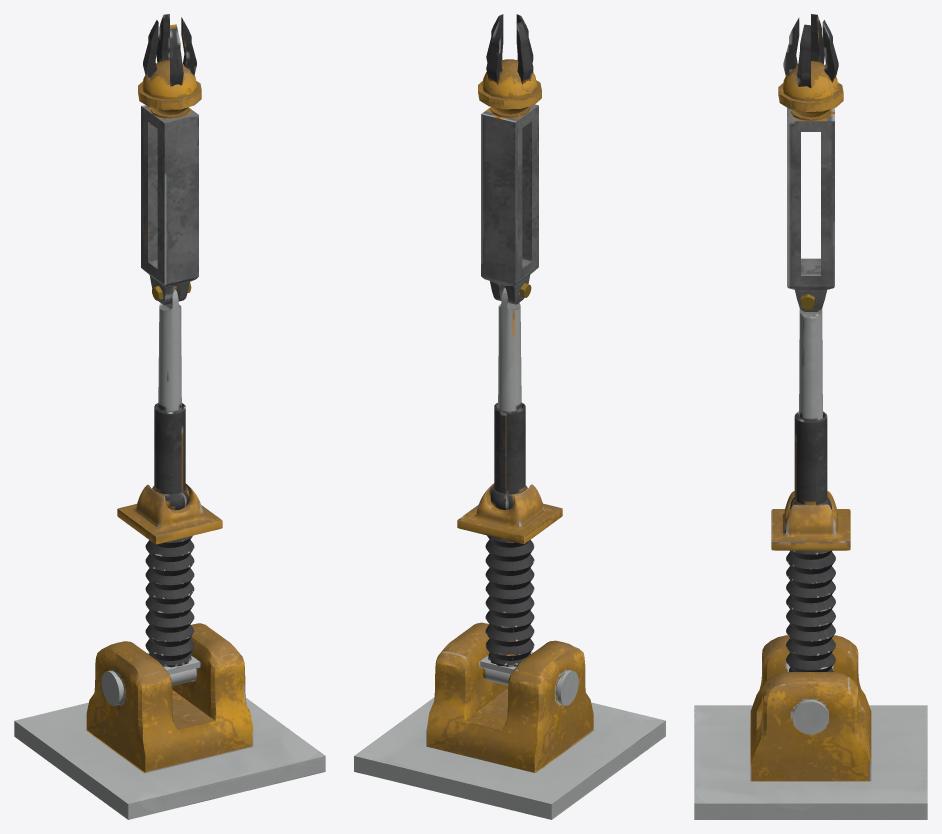
Rendered from brazo_mecanico.glb.
3 renders of one model, left to right at view 1: azimuth 30°, elevation 25°; view 2: azimuth 150°, elevation 25°; view 3: azimuth 270°, elevation 25°, orthographic. The views are drawn at different scales.
Visible parts, largest first — view 1: pieza1, pieza3, muelle, base hidraulica, Hidraulica1, hidraulica2, BOLA_BASE_MANO, Base mano.001, union1; view 2: pieza1, pieza3, muelle, base hidraulica, Hidraulica1, hidraulica2, BOLA_BASE_MANO, Base mano.001, union1; view 3: pieza1, pieza3, muelle, base hidraulica, Hidraulica1, hidraulica2, BOLA_BASE_MANO, Base mano.001, union1.
Part boxes in pixels (<box>): pieza1: <box>14,623,325,819</box>; pieza3: <box>141,105,198,304</box>; muelle: <box>145,535,194,667</box>; base hidraulica: <box>117,483,222,544</box>; Hidraulica1: <box>152,403,189,510</box>; hidraulica2: <box>158,289,181,411</box>; BOLA_BASE_MANO: <box>138,60,201,118</box>; Base mano.001: <box>143,14,196,86</box>; union1: <box>101,668,196,705</box>; pieza1: <box>354,622,665,819</box>; pieza3: <box>481,104,538,304</box>; muelle: <box>485,535,534,666</box>; base hidraulica: <box>457,483,562,544</box>; Hidraulica1: <box>490,402,527,509</box>; hidraulica2: <box>498,288,521,411</box>; BOLA_BASE_MANO: <box>478,59,541,117</box>; Base mano.001: <box>486,14,533,84</box>; union1: <box>483,667,578,705</box>; pieza1: <box>694,635,927,819</box>; pieza3: <box>787,108,834,311</box>; muelle: <box>786,550,835,671</box>; base hidraulica: <box>771,491,850,550</box>; Hidraulica1: <box>790,411,831,509</box>; hidraulica2: <box>799,308,822,420</box>; BOLA_BASE_MANO: <box>778,61,843,120</box>; Base mano.001: <box>783,14,838,88</box>; union1: <box>792,700,828,734</box>.
Size of the model in its own units: 2 by 7.11 by 2.
Materials: 3 (2 with a texture image).
